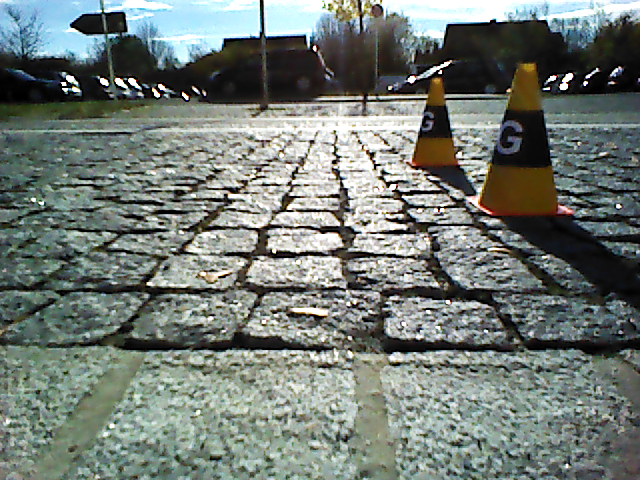yellowcone: (485, 64, 557, 211), (414, 77, 456, 164)
